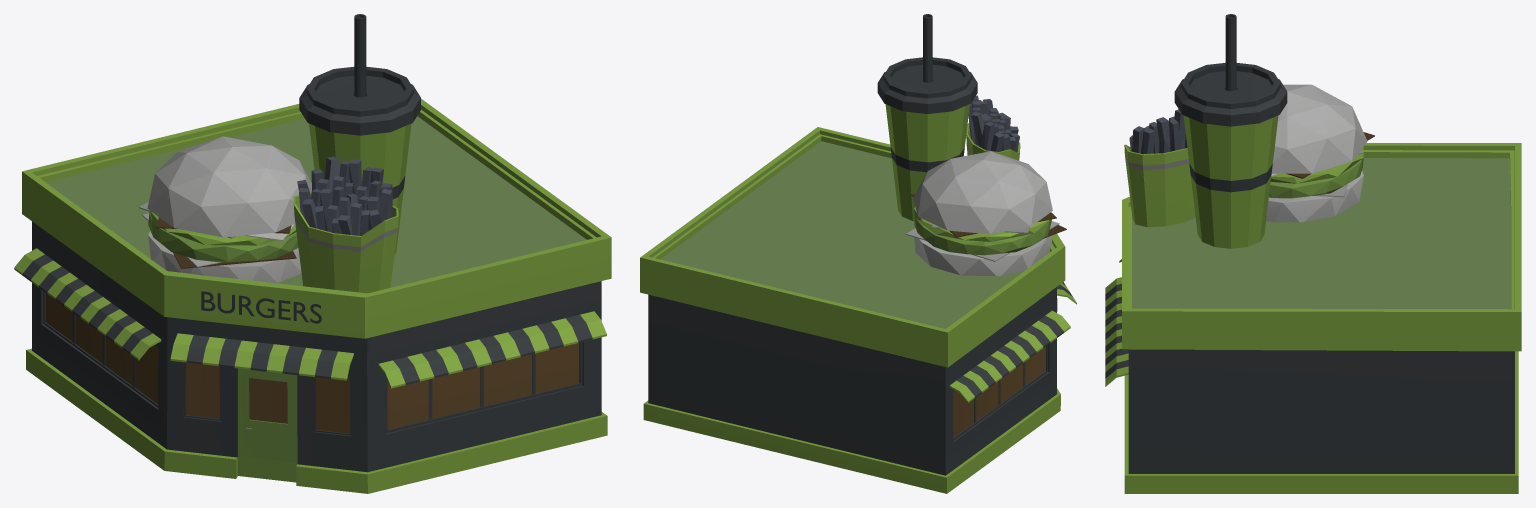
The model's file is Burgers_01.fbx.
3 renders of one model, left to right at view 1: azimuth 30°, elevation 25°; view 2: azimuth 150°, elevation 25°; view 3: azimuth 270°, elevation 25°, orthographic. The views are drawn at different scales.
Parts seen in each view (by area): view 1: Burgers_01; view 2: Burgers_01; view 3: Burgers_01.
Boxes of the visible parts, box(x1,y1,x2,y2) form: Burgers_01: box(14, 14, 611, 493); Burgers_01: box(640, 14, 1076, 493); Burgers_01: box(1105, 14, 1521, 493).
Bounding box in the file's own units: 7.36 × 7.63 × 7.35.
